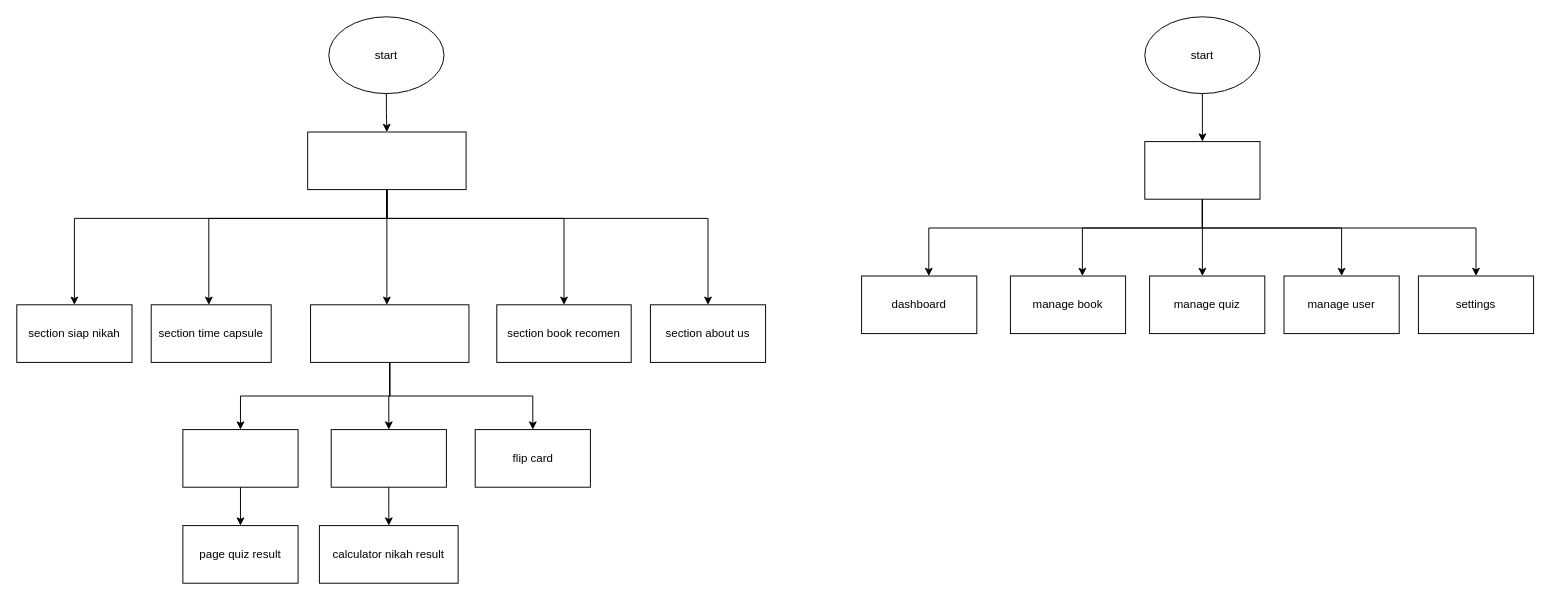
Some shapes in this 1550 by 600 pixel diagram are drawn without their labels. Each missing label, with the box of its shape:
calculator nikah: (330, 429, 446, 487)
landing page berburu restu: (307, 131, 466, 190)
login: (1144, 141, 1260, 199)
page quiz: (182, 429, 298, 487)
section pilih quiz: (310, 304, 469, 362)
